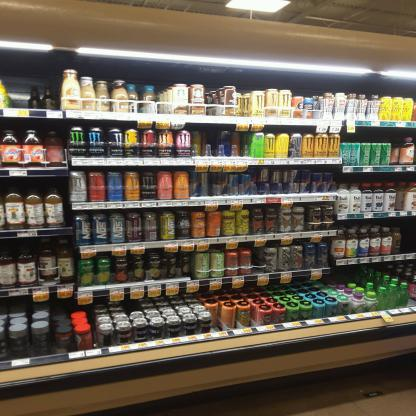Void: (0, 180, 66, 194), (11, 57, 29, 108), (344, 128, 400, 142), (403, 218, 415, 250), (254, 250, 266, 274), (208, 131, 218, 157)
